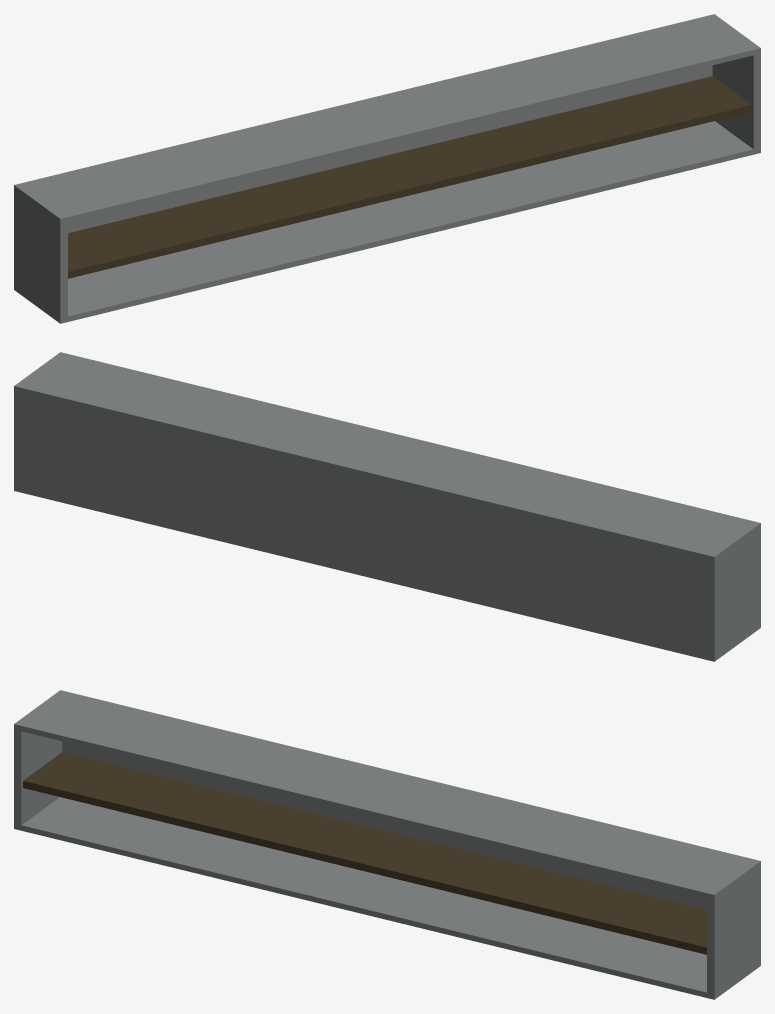
Rendered from Shelf_Wall_Long.fbx.
The picture shows the model from 3 angles, top to bottom: view 1: azimuth 30°, elevation 25°; view 2: azimuth 150°, elevation 25°; view 3: azimuth 330°, elevation 25°; orthographic projection.
Parts seen in each view (by area): view 1: Shelf_Enclosure_geo, Shelf_geo; view 2: Shelf_Enclosure_geo; view 3: Shelf_Enclosure_geo, Shelf_geo.
Part boxes in pixels (x1,y1,x2,y2): Shelf_Enclosure_geo: (14,14,760,323); Shelf_geo: (68,76,751,278); Shelf_Enclosure_geo: (14,352,760,661); Shelf_Enclosure_geo: (14,690,760,999); Shelf_geo: (23,752,706,954).
Size of the model in its own units: 761 by 109 by 87.39.
